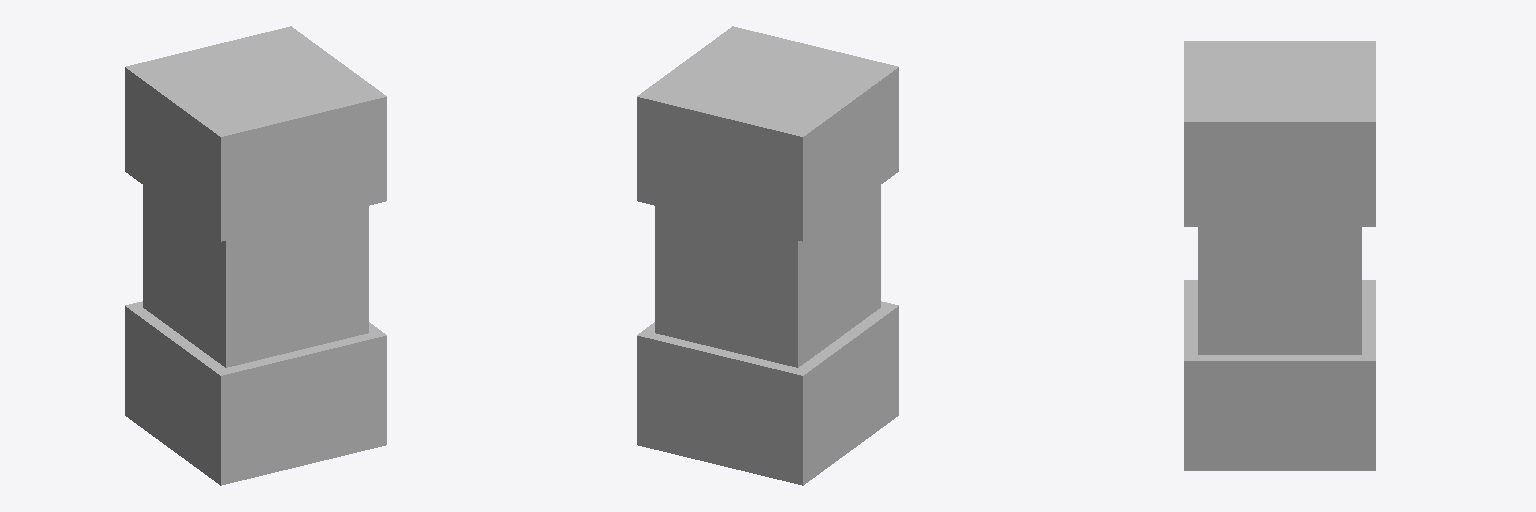
Rendered from vertical_pipe.obj.
3 renders of one model, left to right at view 1: azimuth 30°, elevation 25°; view 2: azimuth 150°, elevation 25°; view 3: azimuth 270°, elevation 25°, orthographic.
Visible parts, largest first — view 1: Plane.001; view 2: Plane.001; view 3: Plane.001.
Part boxes in pixels (bbox=[...]): Plane.001: bbox=[125, 26, 386, 485]; Plane.001: bbox=[637, 26, 898, 485]; Plane.001: bbox=[1184, 41, 1375, 470].
Bounding box in the file's own units: 1 × 2 × 1.